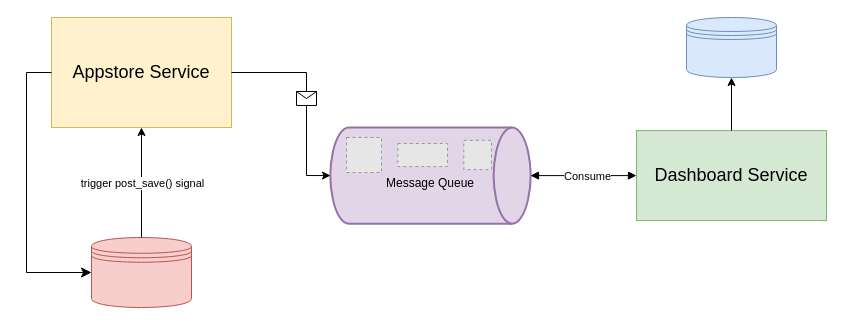
Image size: 844x325. Some labels were removed from this diagram. Grey dashed boxes stand in for pictures. Each missing label, with the centre of its shape:
Appstore DB: the point at 141,272
Dashboard DB: the point at 731,47
